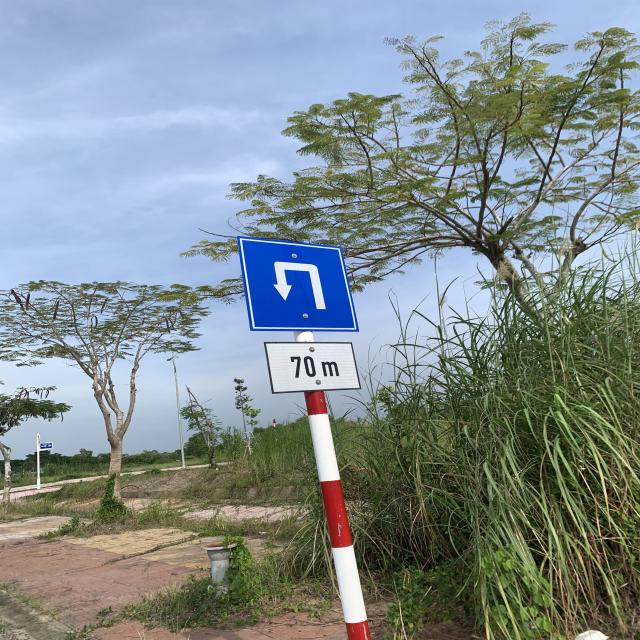Den_Giao_Thong: (238, 237, 360, 330)
